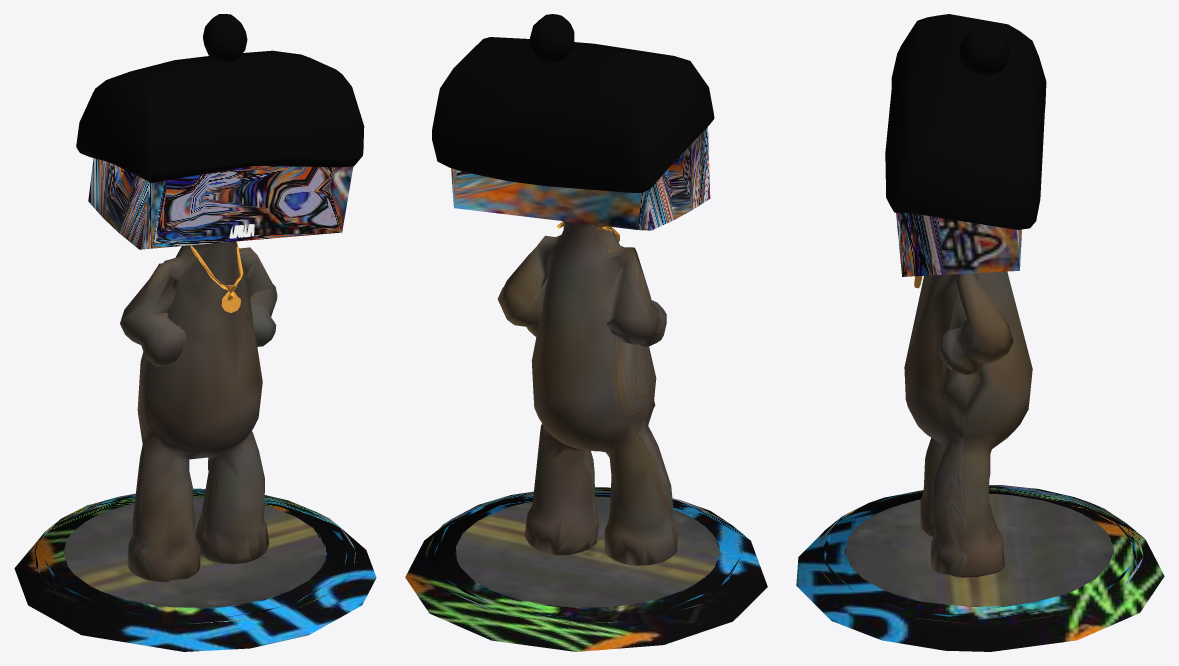
The picture shows the model from 3 angles, left to right: view 1: azimuth 30°, elevation 25°; view 2: azimuth 150°, elevation 25°; view 3: azimuth 270°, elevation 25°; orthographic projection. The views are drawn at different scales.
Bounding box in the file's own units: 1.44 × 2.42 × 1.44.
Materials: 7 (5 with a texture image).
